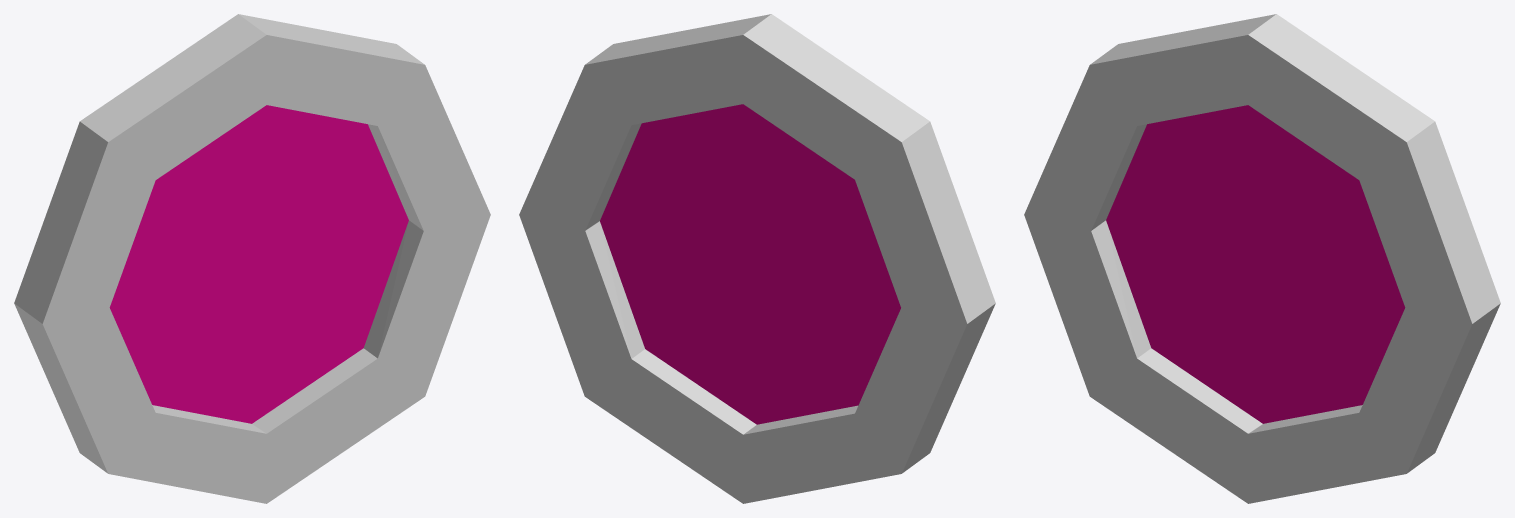
Rendered from CoinModel.dae.
The picture shows the model from 3 angles, left to right: view 1: azimuth 30°, elevation 25°; view 2: azimuth 150°, elevation 25°; view 3: azimuth 330°, elevation 25°; orthographic projection.
Visible parts, largest first — view 1: coin; view 2: coin; view 3: coin.
Part boxes in pixels (x1,y1,x2,y2): coin: (14,14,490,503); coin: (519,14,995,503); coin: (1024,14,1500,503).
Bounding box in the file's own units: 0.6511 × 0.0717 × 0.6511.
